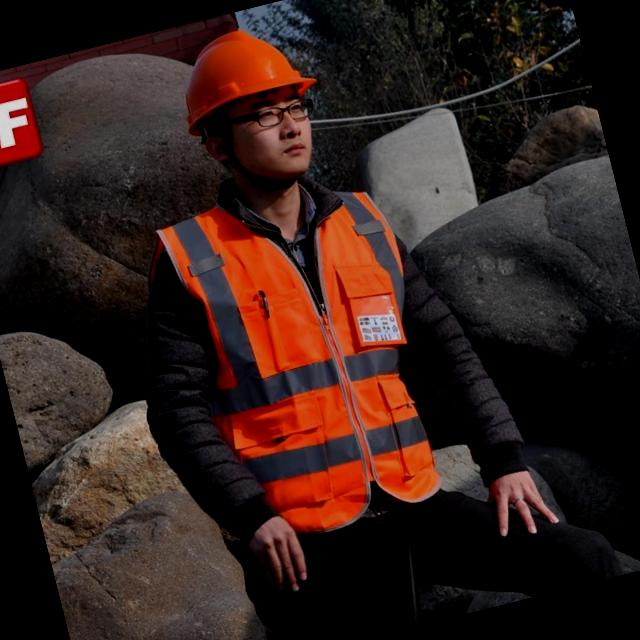helmet: (163, 12, 316, 126)
vest: (142, 166, 452, 544)
